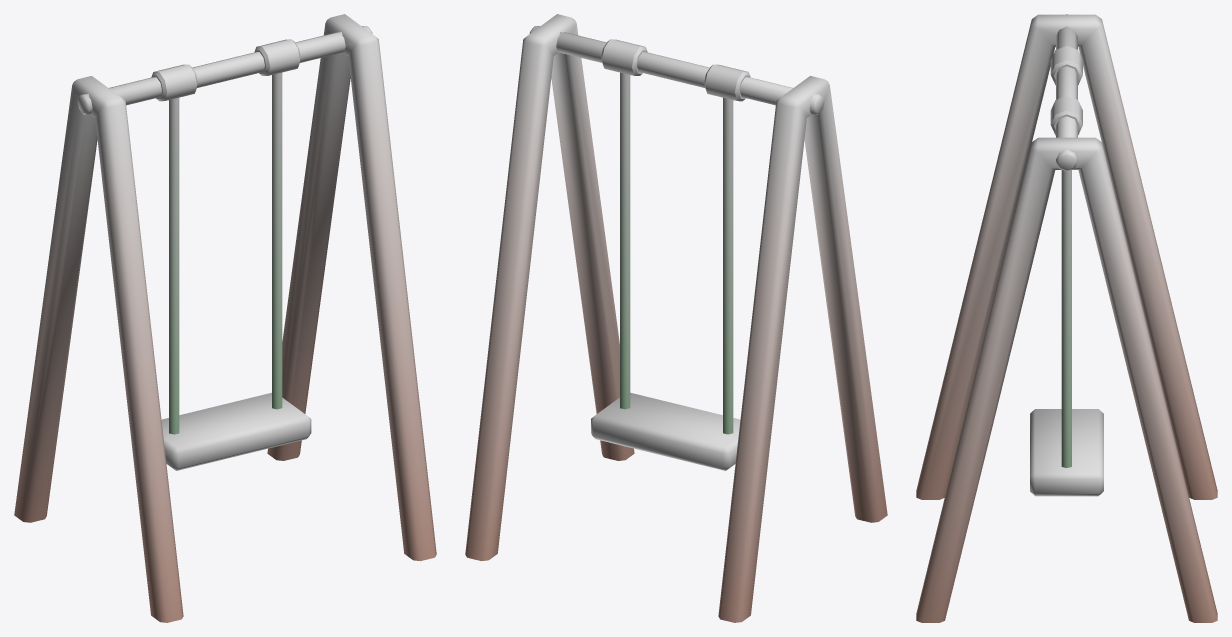
Rendered from NF_Env_Kids Swing 02.fbx.
3 views of the same model, side by side, from view 1: azimuth 30°, elevation 25°; view 2: azimuth 150°, elevation 25°; view 3: azimuth 270°, elevation 25° (orthographic).
Visible parts, largest first — view 1: Kids Swing 02; view 2: Kids Swing 02; view 3: Kids Swing 02.
Part boxes in pixels (bbox=[...]): Kids Swing 02: bbox=[14, 14, 436, 622]; Kids Swing 02: bbox=[465, 14, 887, 622]; Kids Swing 02: bbox=[916, 14, 1217, 622].
Bounding box in the file's own units: 1.89 × 3.01 × 1.72.
